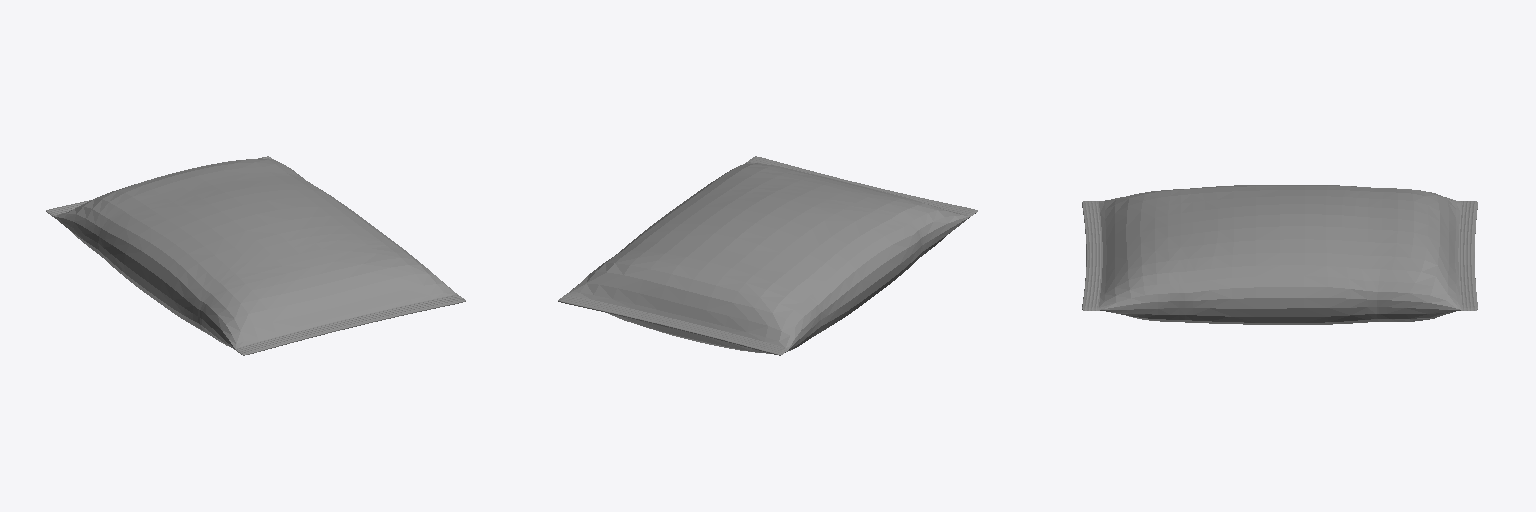
3 views of the same model, side by side, from view 1: azimuth 30°, elevation 25°; view 2: azimuth 150°, elevation 25°; view 3: azimuth 270°, elevation 25° (orthographic).
Parts seen in each view (by area): view 1: fish_syharic; view 2: fish_syharic; view 3: fish_syharic.
Part boxes in pixels (x1,y1,x2,y2): fish_syharic: (46,156,465,355); fish_syharic: (558,156,977,355); fish_syharic: (1082,185,1477,324).
Size of the model in its own units: 13.03 by 4.65 by 19.93.